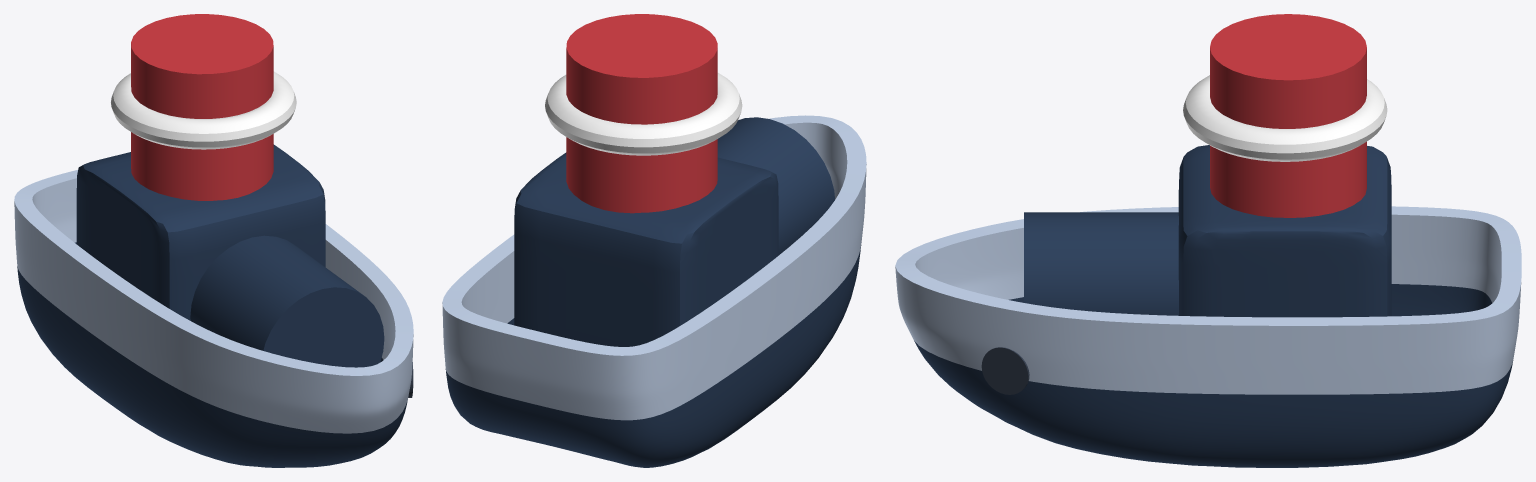
Rendered from Boat_High.fbx.
3 views of the same model, side by side, from view 1: azimuth 30°, elevation 25°; view 2: azimuth 150°, elevation 25°; view 3: azimuth 270°, elevation 25° (orthographic). The views are drawn at different scales.
Visible parts, largest first — view 1: Boat_Mid; view 2: Boat_Mid; view 3: Boat_Mid.
Part boxes in pixels (x1=…): Boat_Mid: x1=14, y1=14, x2=413, y2=467; Boat_Mid: x1=442, y1=14, x2=866, y2=467; Boat_Mid: x1=895, y1=14, x2=1521, y2=467.
Size of the model in its own units: 90.18 by 133 by 198.
